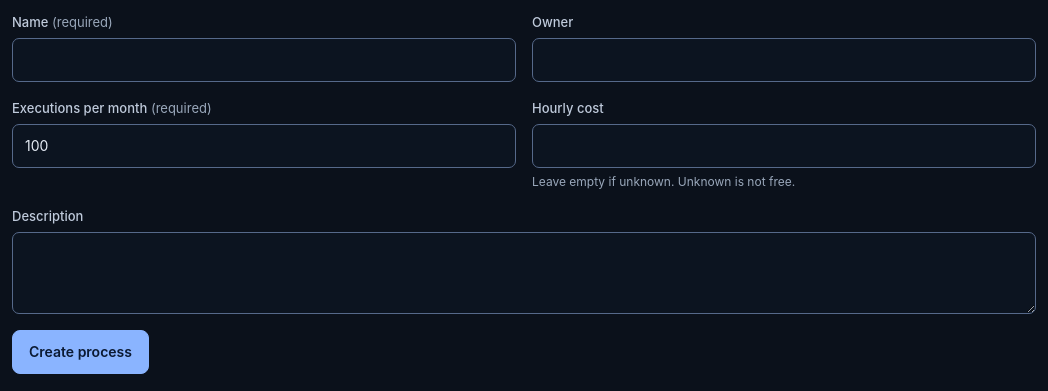
Test: creating a process › shows a validation error on its field
The width and height of the screenshot is (1048, 391).
Replace the text in the field labelled "Executions per month" with "0": [264, 146] box [12, 124, 516, 168]
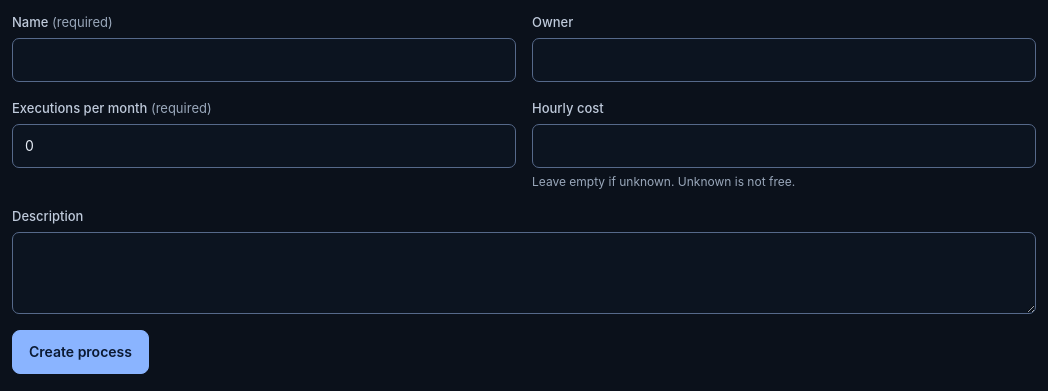
Click the button "Create process": [80, 352] box [12, 330, 149, 374]
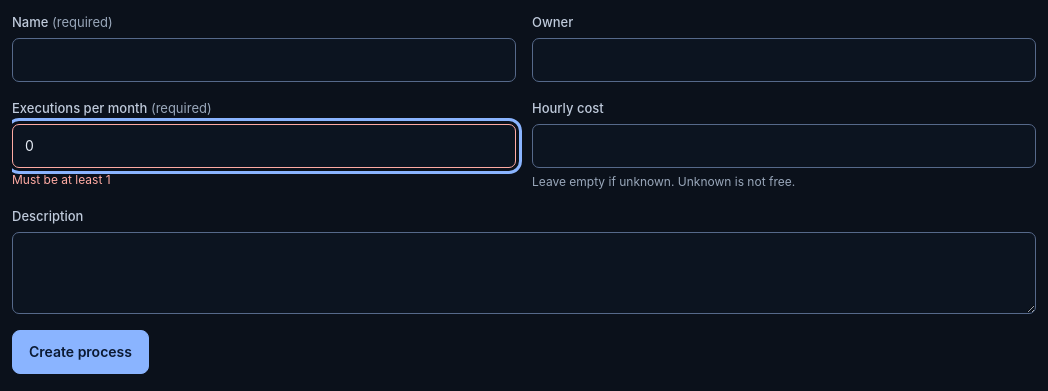
Now the text "Must be at least 1" is shown, box [12, 172, 111, 187]
